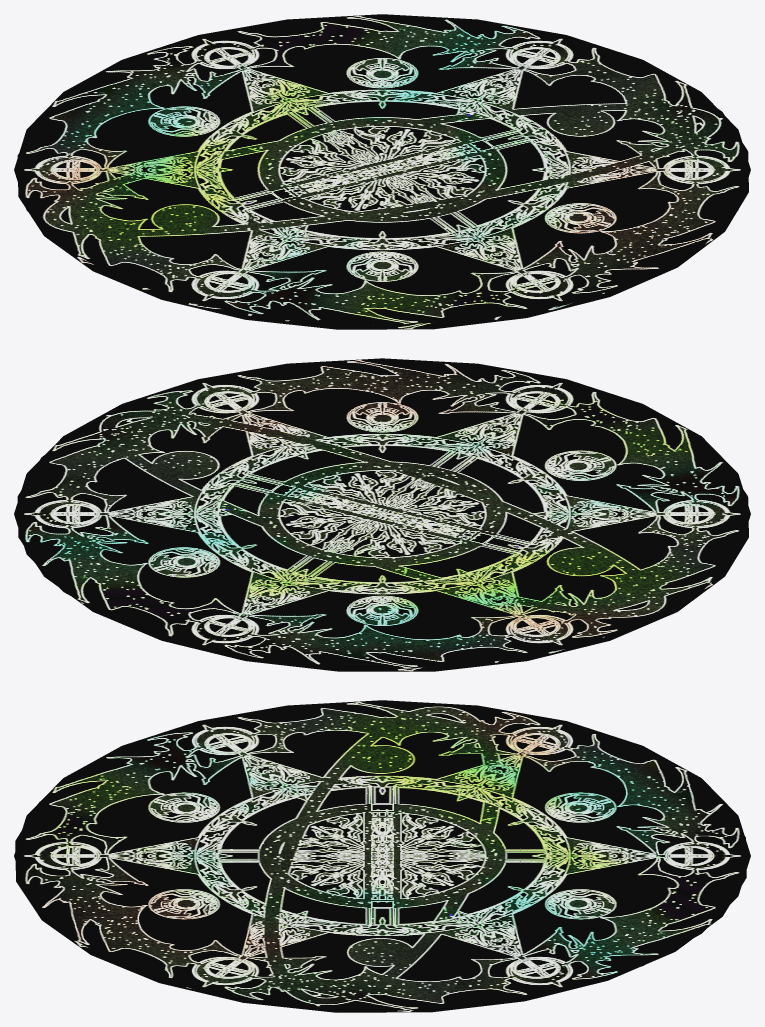
File: bahamut_circle_0.obj
3 renders of one model, top to bottom at view 1: azimuth 30°, elevation 25°; view 2: azimuth 150°, elevation 25°; view 3: azimuth 270°, elevation 25°, orthographic.
Size of the model in its own units: 70.45 by 0.5218 by 70.45.
Materials: 1 (1 with a texture image).
